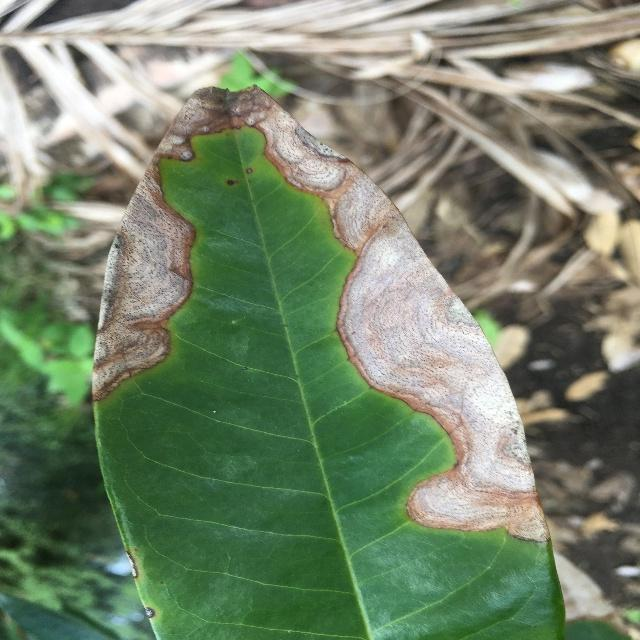Leaf Blight: (83, 78, 575, 640)
